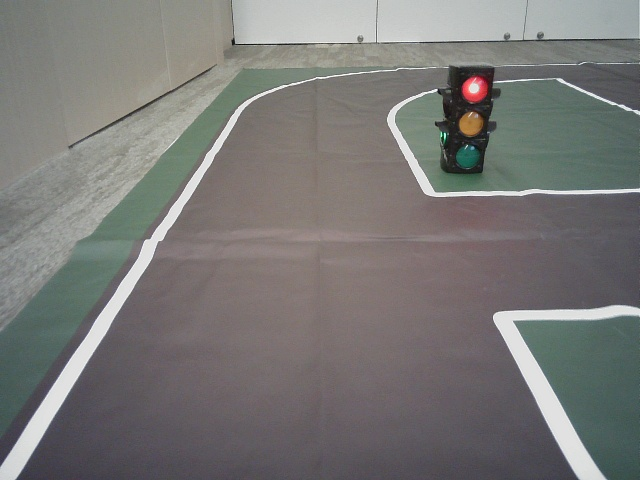red: (453, 71, 487, 170)
